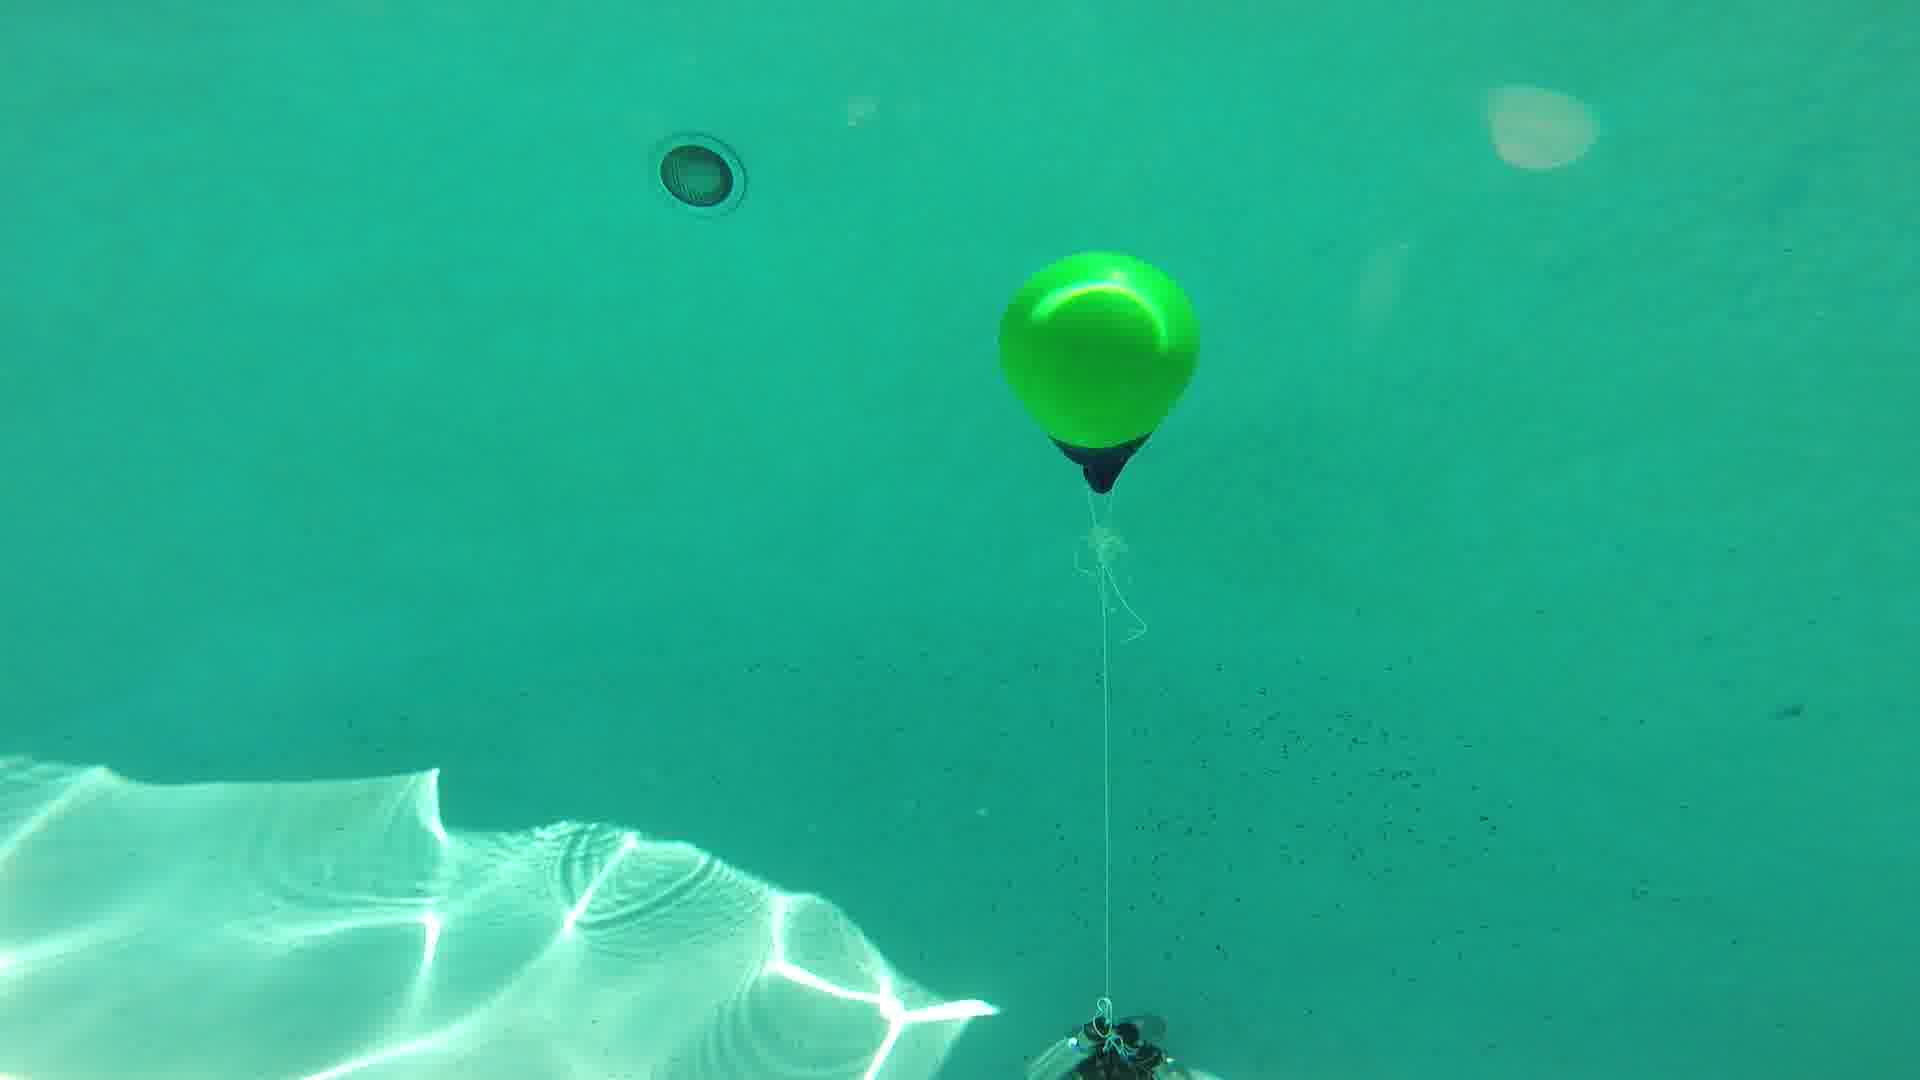yellow_buoy: (996, 251, 1203, 496)
